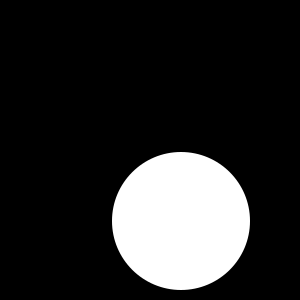rectangle: (112, 152, 250, 290)
